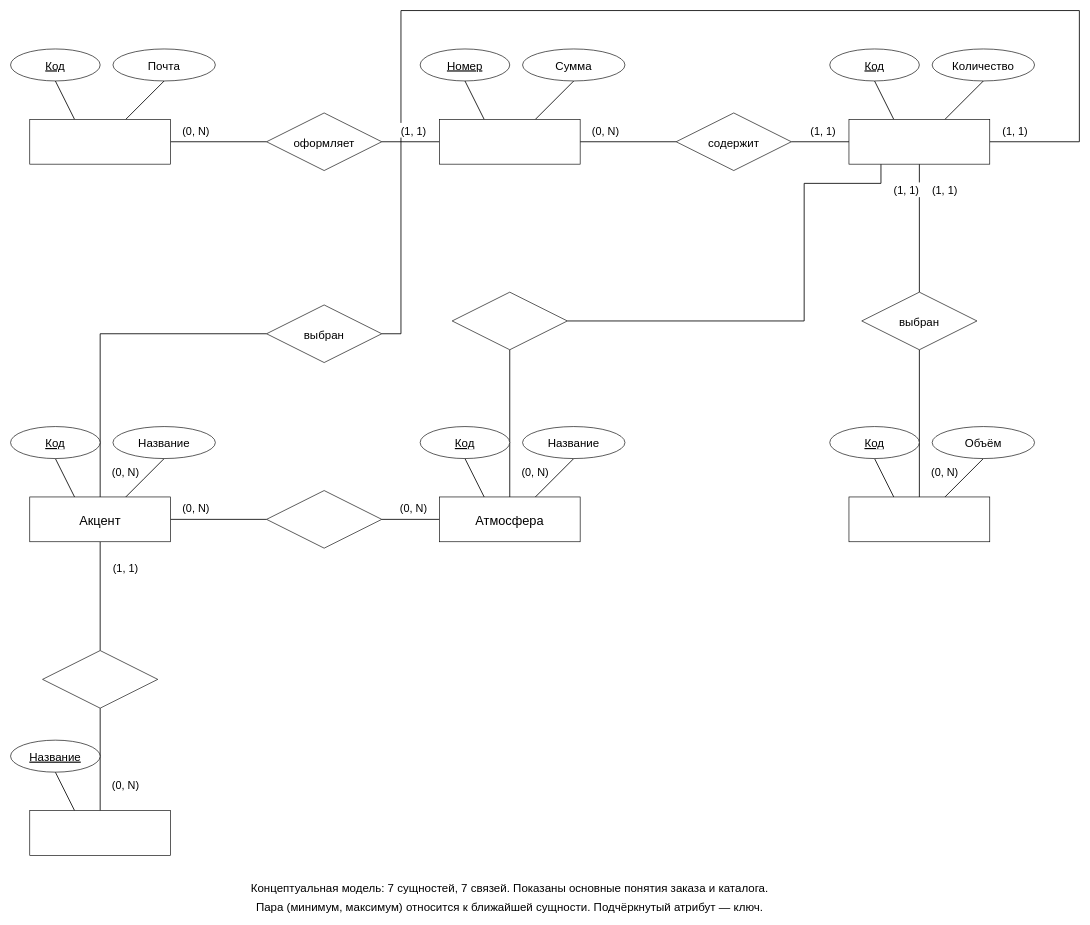
The diagram is 1090 pixels wide and 925 high, and some of its shapes have lost their labels. The shapes that lost their labels are listed below. From the top down, each one's box as (x1, y1, x2, y2) in pixels, then its label:
(29, 119, 171, 164): Пользователь
(439, 119, 580, 164): Заказ
(848, 119, 990, 164): Позиция заказа
(452, 292, 567, 350): выбрана
(266, 490, 382, 548): совместима
(848, 496, 990, 542): Флакон
(42, 650, 158, 708): объединяет
(29, 810, 171, 855): Категория
